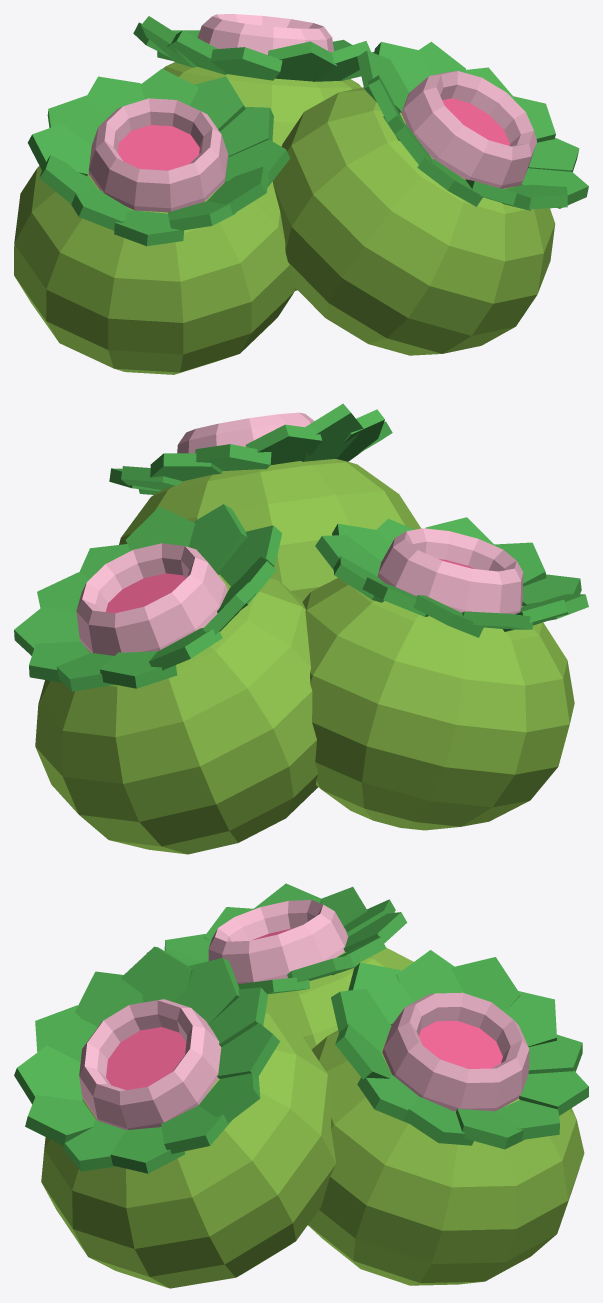
3 renders of one model, top to bottom at view 1: azimuth 30°, elevation 25°; view 2: azimuth 150°, elevation 25°; view 3: azimuth 270°, elevation 25°, orthographic. The views are drawn at different scales.
Parts seen in each view (by area): view 1: mesh984863680, mesh1061209266, mesh232961007; view 2: mesh232961007, mesh1061209266, mesh984863680; view 3: mesh984863680, mesh232961007, mesh1061209266.
Boxes of the visible parts, box(x1,y1,x2,y2) form: mesh984863680: box(272, 41, 588, 355); mesh1061209266: box(14, 68, 294, 374); mesh232961007: box(133, 14, 374, 290); mesh232961007: box(14, 504, 318, 854); mesh1061209266: box(302, 517, 588, 830); mesh984863680: box(109, 403, 421, 600); mesh984863680: box(14, 946, 336, 1288); mesh232961007: box(308, 950, 588, 1285); mesh1061209266: box(146, 883, 413, 1049).
Size of the model in its own units: 0.4104 by 0.2552 by 0.4203.
